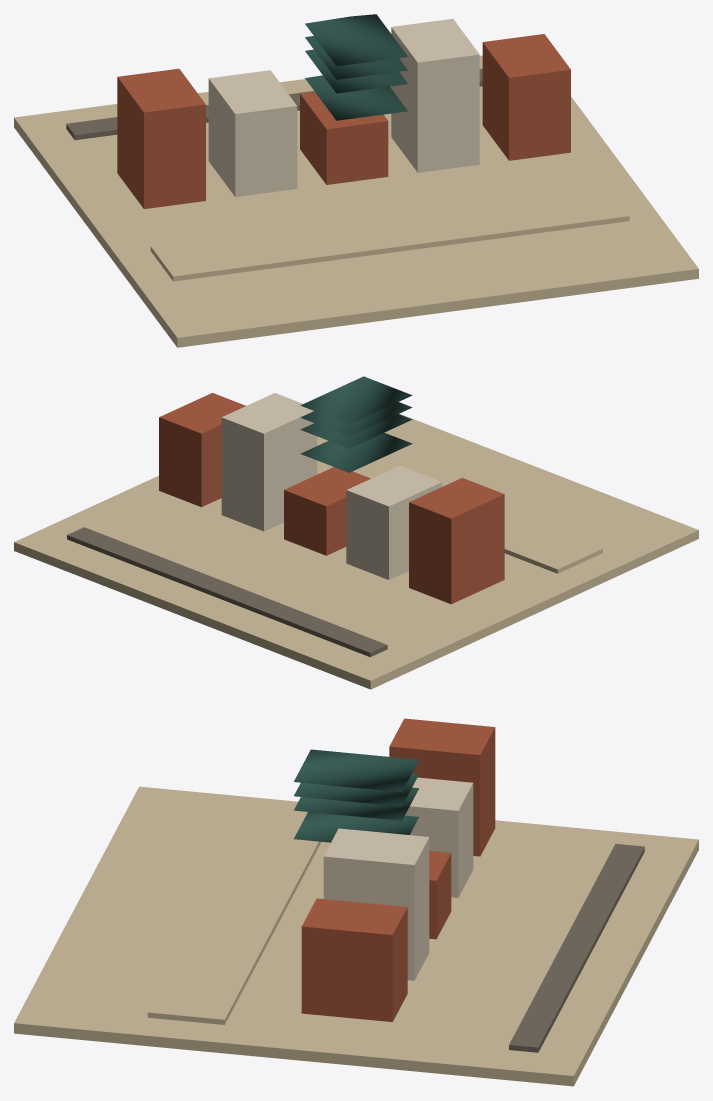
Rendered from model-medium.glb.
3 views of the same model, one above another, from view 1: azimuth 30°, elevation 25°; view 2: azimuth 150°, elevation 25°; view 3: azimuth 270°, elevation 25° (orthographic). The views are drawn at different scales.
Visible parts, largest first — view 1: context_site_plinth, street_public_axis, street_facade_3, street_facade_0, street_facade_1, street_facade_4, street_facade_2, street_roof_3, street_roof_2, street_roof_0, street_roof_1, front_scale_strip; view 2: context_site_plinth, street_facade_0, street_facade_3, street_facade_1, street_facade_4, front_scale_strip, street_facade_2, street_public_axis, street_roof_3, street_roof_2, street_roof_1, street_roof_0; view 3: context_site_plinth, street_public_axis, street_facade_4, street_facade_3, front_scale_strip, street_facade_0, street_facade_1, street_roof_3, street_roof_2, street_facade_2, street_roof_0, street_roof_1.
Boxes of the visible parts, <box> form: context_site_plinth: <box>14,55,698,347</box>; street_public_axis: <box>150,186,629,281</box>; street_facade_3: <box>391,18,479,172</box>; street_facade_0: <box>117,68,205,208</box>; street_facade_1: <box>208,70,297,196</box>; street_facade_4: <box>482,34,570,160</box>; street_facade_2: <box>300,91,388,184</box>; street_roof_3: <box>305,14,407,66</box>; street_roof_2: <box>305,75,407,120</box>; street_roof_0: <box>305,30,407,79</box>; street_roof_1: <box>305,49,407,93</box>; front_scale_strip: <box>66,68,482,140</box>; context_site_plinth: <box>14,413,698,689</box>; street_facade_0: <box>409,478,504,604</box>; street_facade_3: <box>221,393,317,531</box>; street_facade_1: <box>346,465,442,579</box>; street_facade_4: <box>159,393,245,507</box>; front_scale_strip: <box>67,527,387,657</box>; street_facade_2: <box>284,467,370,555</box>; street_public_axis: <box>317,438,602,573</box>; street_roof_3: <box>300,376,412,424</box>; street_roof_2: <box>300,432,412,472</box>; street_roof_1: <box>300,414,412,448</box>; street_roof_0: <box>300,402,412,436</box>; context_site_plinth: <box>14,786,698,1086</box>; street_public_axis: <box>147,805,321,1024</box>; street_facade_4: <box>301,898,407,1021</box>; street_facade_3: <box>323,828,429,980</box>; front_scale_strip: <box>509,843,644,1052</box>; street_facade_0: <box>389,718,495,856</box>; street_facade_1: <box>405,777,473,897</box>; street_roof_3: <box>294,749,418,792</box>; street_roof_2: <box>294,812,418,842</box>; street_facade_2: <box>429,850,451,939</box>; street_roof_0: <box>294,773,418,806</box>; street_roof_1: <box>294,787,418,820</box>.
Bounding box in the file's own units: 9.55 × 2.89 × 9.55.
